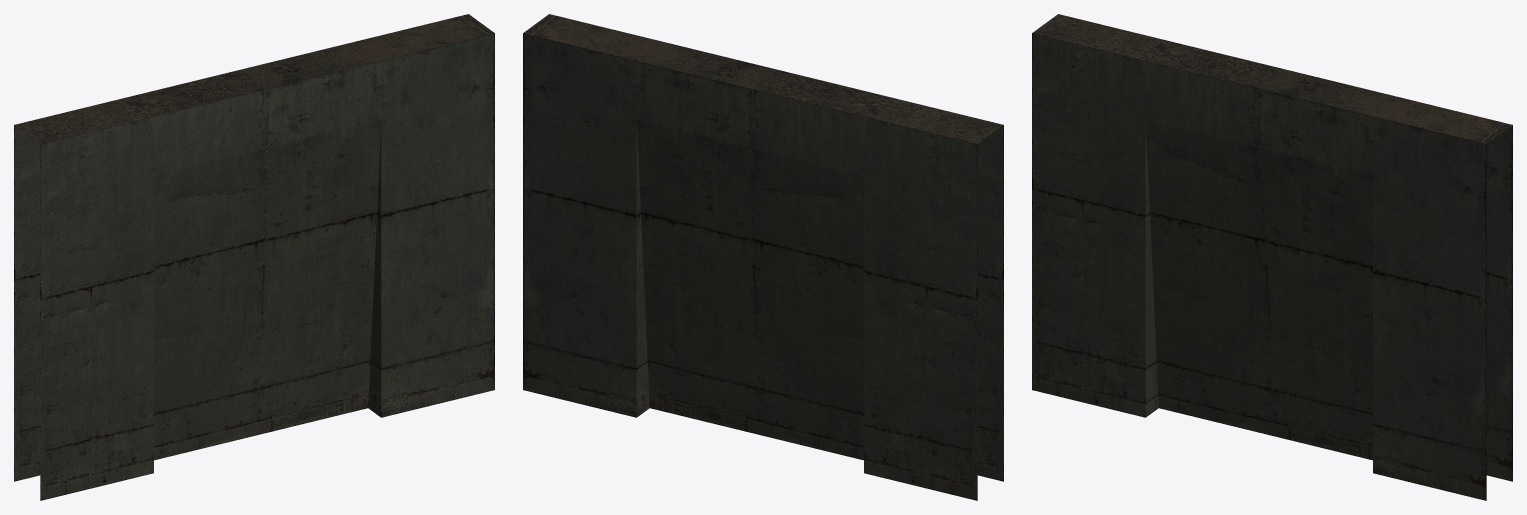
Rendered from wall_rg_1_t_2.dae.
3 renders of one model, left to right at view 1: azimuth 30°, elevation 25°; view 2: azimuth 150°, elevation 25°; view 3: azimuth 330°, elevation 25°, orthographic.
Parts seen in each view (by area): view 1: wall_rg_1_t_2; view 2: wall_rg_1_t_2; view 3: wall_rg_1_t_2.
Part boxes in pixels (x1=…): wall_rg_1_t_2: x1=14, y1=14, x2=494, y2=500; wall_rg_1_t_2: x1=523, y1=14, x2=1003, y2=500; wall_rg_1_t_2: x1=1032, y1=14, x2=1512, y2=500.
Size of the model in its own units: 4 by 0.4 by 3.
2 materials, 2 textured.
